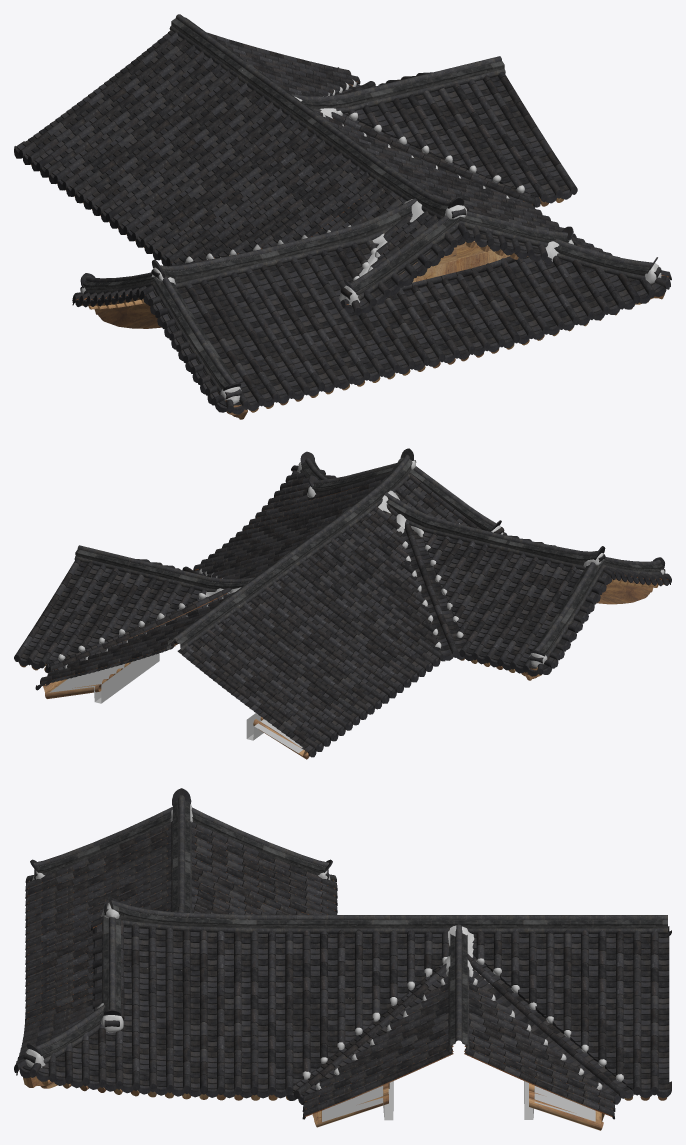
File: SM_JSH_Giwa01F_2Sa.fbx
3 renders of one model, top to bottom at view 1: azimuth 30°, elevation 25°; view 2: azimuth 150°, elevation 25°; view 3: azimuth 270°, elevation 25°, orthographic. The views are drawn at different scales.
Parts seen in each view (by area): view 1: SM_JSH_Giwa01F_2Sa; view 2: SM_JSH_Giwa01F_2Sa; view 3: SM_JSH_Giwa01F_2Sa.
Boxes of the visible parts, <box> form: SM_JSH_Giwa01F_2Sa: <box>14,14,671,419</box>; SM_JSH_Giwa01F_2Sa: <box>14,448,671,759</box>; SM_JSH_Giwa01F_2Sa: <box>14,788,671,1130</box>.
Bounding box in the file's own units: 1016 × 1161 × 268.
3 materials, 2 textured.
